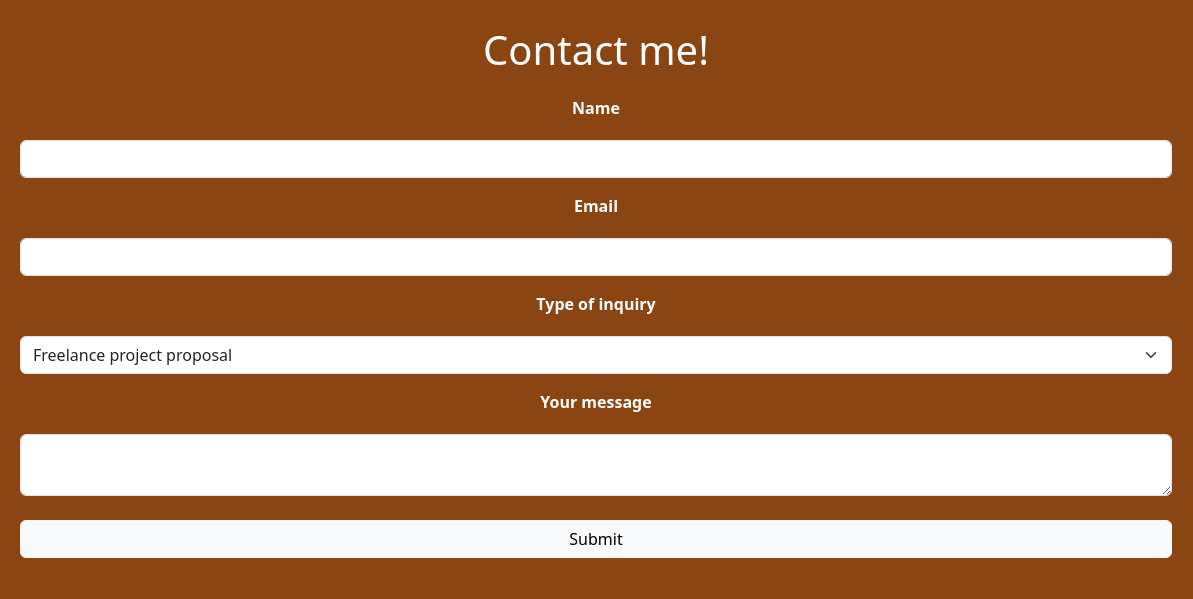
Test: shows length error for short message
The width and height of the screenshot is (1193, 599).
Type "short message" into the text box labelled "Your message" at (596, 465), box [20,434,1172,496]
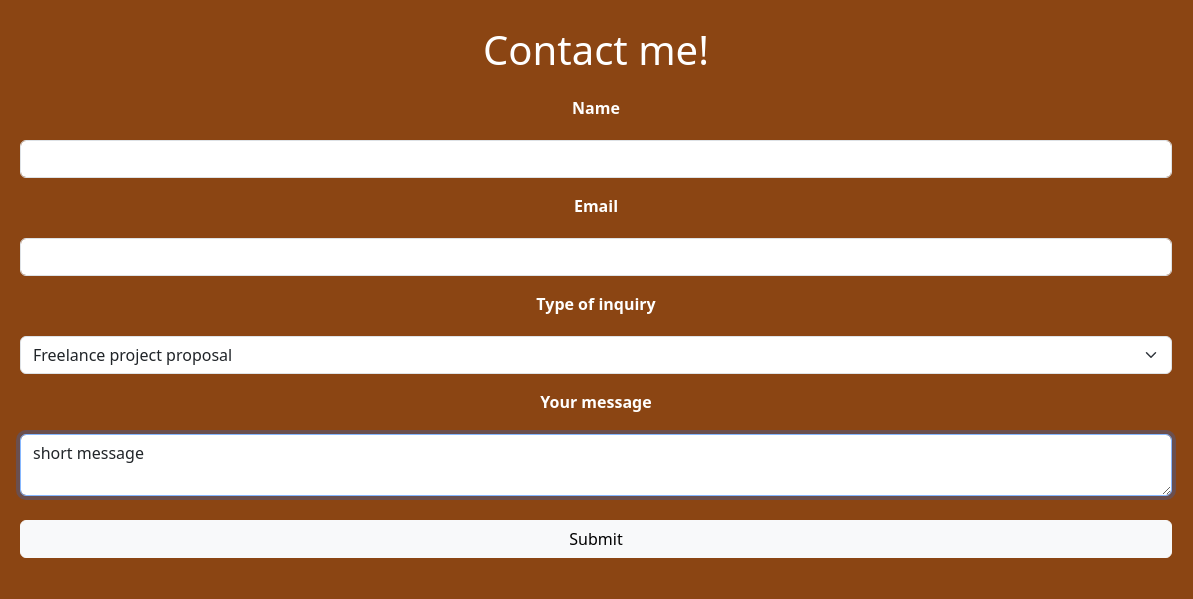
Press Tab
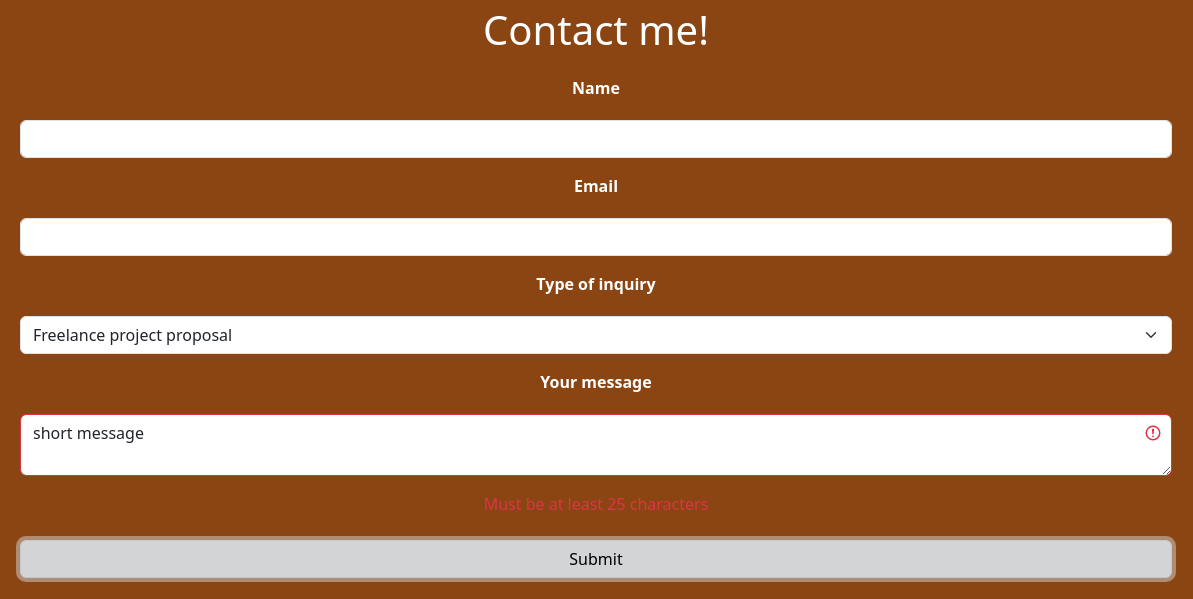
Check: the text "Must be at least 25 characters" is shown, box [484,493,708,515]
